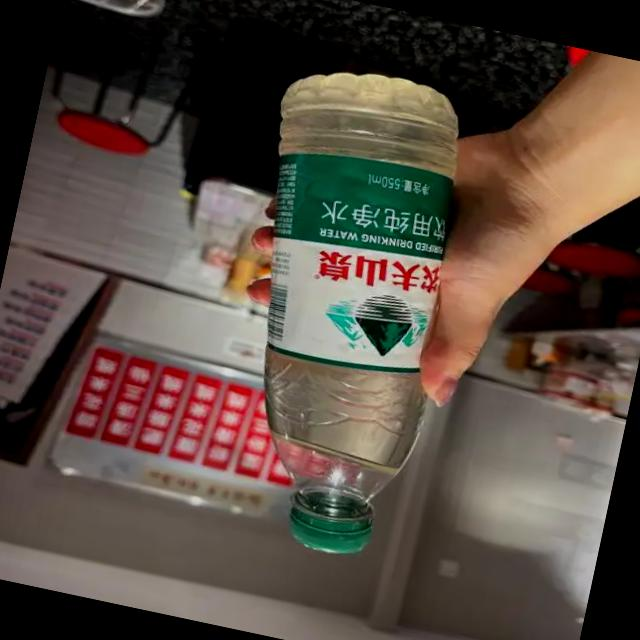bottle: (186, 49, 494, 572)
